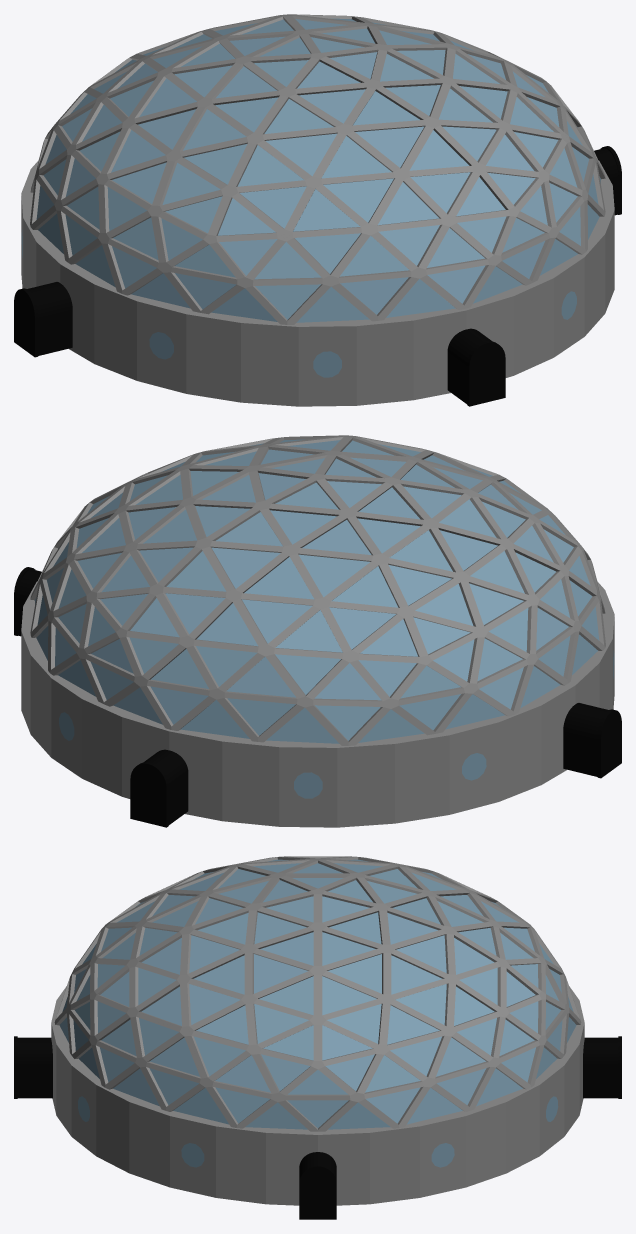
The model's file is hab large interior.fbx.
3 renders of one model, top to bottom at view 1: azimuth 30°, elevation 25°; view 2: azimuth 150°, elevation 25°; view 3: azimuth 270°, elevation 25°, orthographic. The views are drawn at different scales.
Parts seen in each view (by area): view 1: Dome glass, Dome frame, body, connector.002, connector wall.001, connector, connector wall, connector.003; view 2: Dome glass, Dome frame, body, connector.002, connector wall.003, connector.001, connector wall, connector.003; view 3: Dome glass, Dome frame, body, connector.001, connector, connector wall.002, connector.003.
Part boxes in pixels (x1,y1,x2,y2): Dome glass: [36, 18, 601, 322]; Dome frame: [30, 14, 605, 324]; body: [21, 160, 614, 406]; connector.002: [27, 282, 72, 355]; connector wall.001: [467, 341, 505, 406]; connector: [447, 328, 491, 404]; connector wall: [14, 288, 38, 357]; connector.003: [594, 148, 618, 215]; Dome glass: [34, 439, 599, 743]; Dome frame: [30, 435, 605, 745]; body: [21, 581, 614, 827]; connector.002: [563, 703, 608, 776]; connector wall.003: [130, 762, 168, 827]; connector.001: [144, 749, 188, 825]; connector wall: [597, 709, 621, 778]; connector.003: [17, 569, 41, 636]; Dome glass: [59, 859, 576, 1129]; Dome frame: [54, 856, 581, 1131]; body: [51, 986, 584, 1205]; connector.001: [583, 1037, 618, 1098]; connector: [17, 1037, 52, 1098]; connector wall.002: [299, 1165, 336, 1219]; connector.003: [299, 1152, 336, 1179].
Bounding box in the file's own units: 1619 × 594 × 1619.
